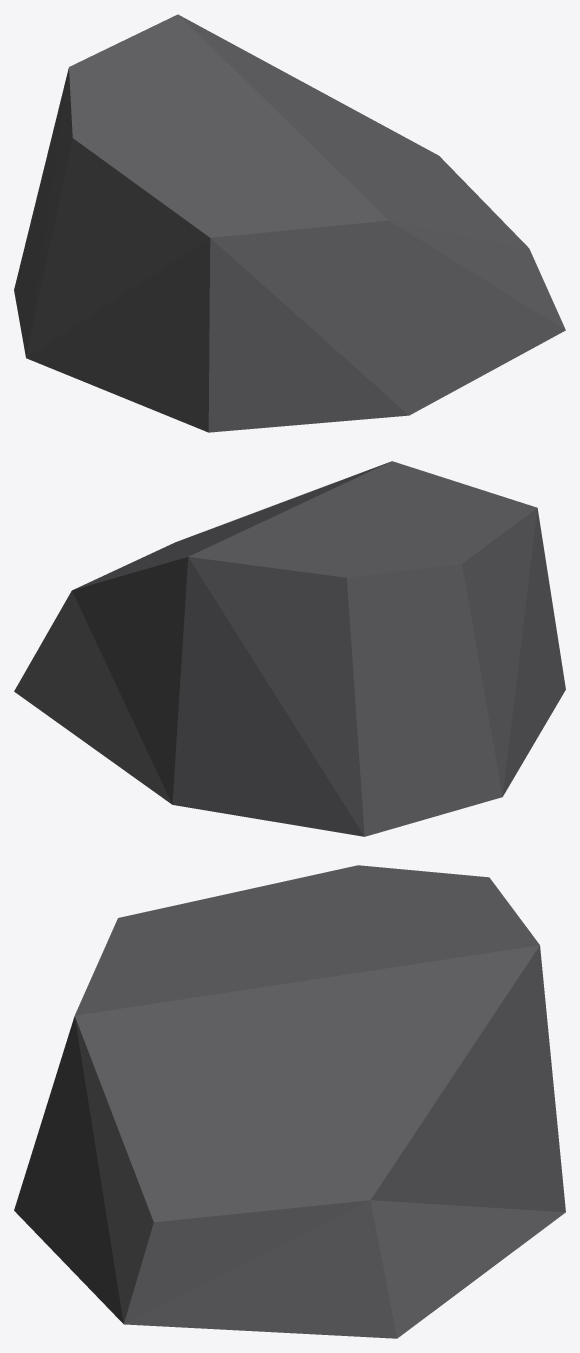
Rendered from TB_Env_Rock5_C.FBX.
3 renders of one model, top to bottom at view 1: azimuth 30°, elevation 25°; view 2: azimuth 150°, elevation 25°; view 3: azimuth 270°, elevation 25°, orthographic. The views are drawn at different scales.
Visible parts, largest first — view 1: TB_Env_Rock5_C; view 2: TB_Env_Rock5_C; view 3: TB_Env_Rock5_C.
Boxes of the visible parts, x1,y1,x2,y2 form: TB_Env_Rock5_C: (14,14,565,432); TB_Env_Rock5_C: (14,461,565,836); TB_Env_Rock5_C: (14,865,565,1338).
Size of the model in its own units: 1.49 by 0.7212 by 1.36.
